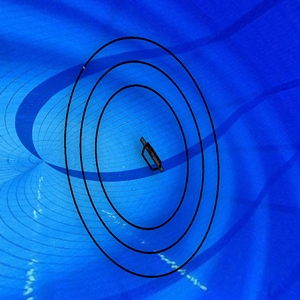circle: (62, 35, 222, 279)
submarine: (134, 133, 167, 181)
